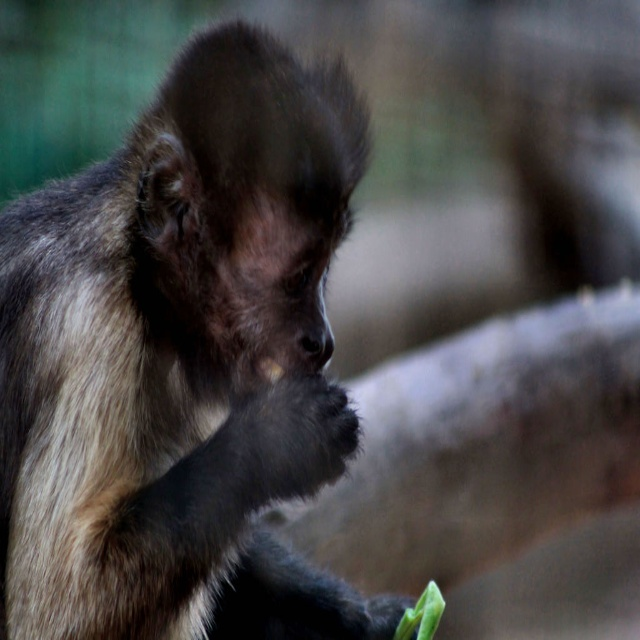Monkey: (5, 9, 392, 640)
